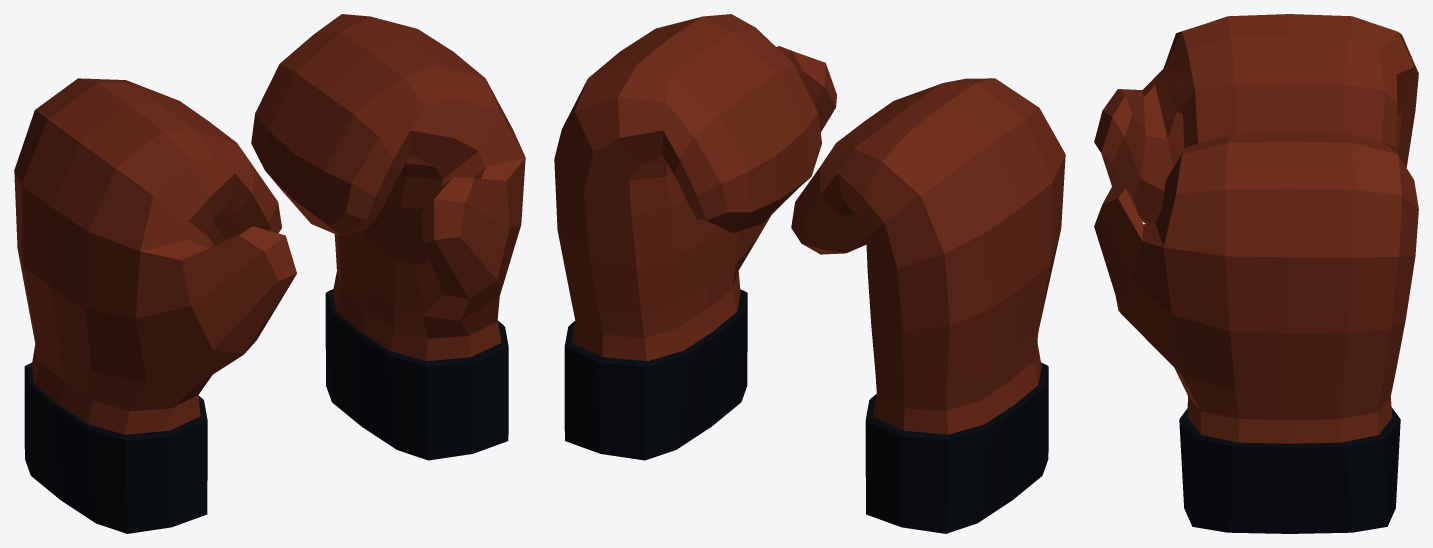
File: BoxingGloves1.glb
3 views of the same model, side by side, from view 1: azimuth 30°, elevation 25°; view 2: azimuth 150°, elevation 25°; view 3: azimuth 270°, elevation 25° (orthographic). The views are drawn at different scales.
Visible parts, largest first — view 1: RBoxingGloves1, LBoxingGloves1; view 2: LBoxingGloves1, RBoxingGloves1; view 3: LBoxingGloves1, RBoxingGloves1.
Part boxes in pixels (x1,y1,x2,y2): RBoxingGloves1: (14, 78, 296, 533); LBoxingGloves1: (251, 14, 525, 460); LBoxingGloves1: (554, 14, 836, 460); RBoxingGloves1: (791, 78, 1065, 533); LBoxingGloves1: (1094, 133, 1418, 533); RBoxingGloves1: (1094, 14, 1418, 223).
Bounding box in the file's own units: 0.3898 × 0.3263 × 0.2665.
